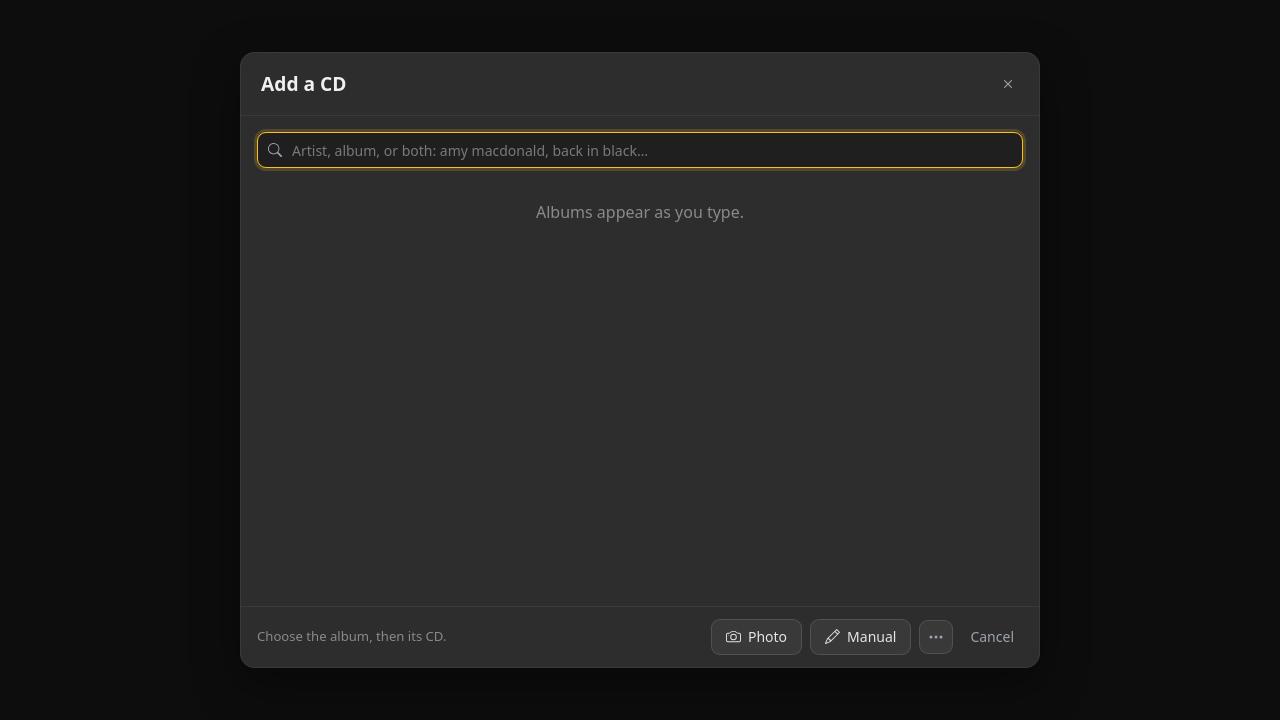
Test: AddMusicDialog — the finder is the way in › still lets the user search MusicBrainz by title, and come back to the finder
The width and height of the screenshot is (1280, 720).
Click the button named "other searches" at (936, 637), box [919,620,953,654]
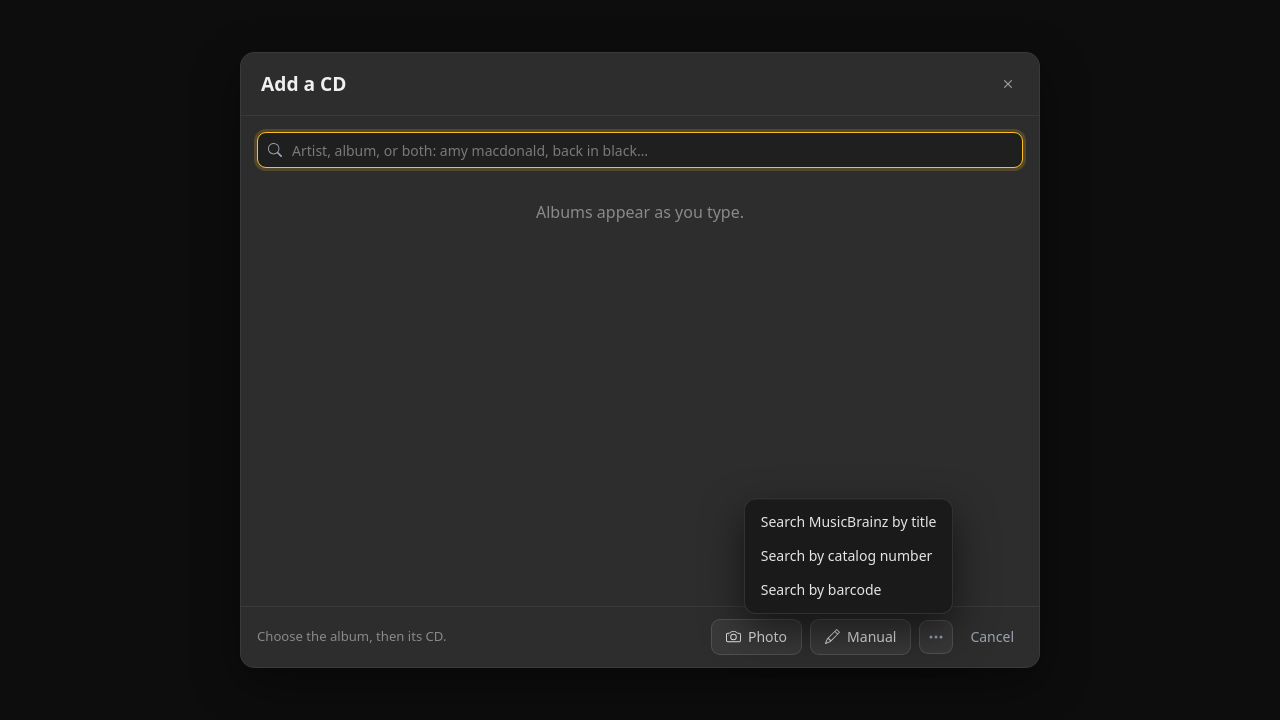
Click the menu item "Search MusicBrainz by title" at (849, 522), box [751,505,946,539]
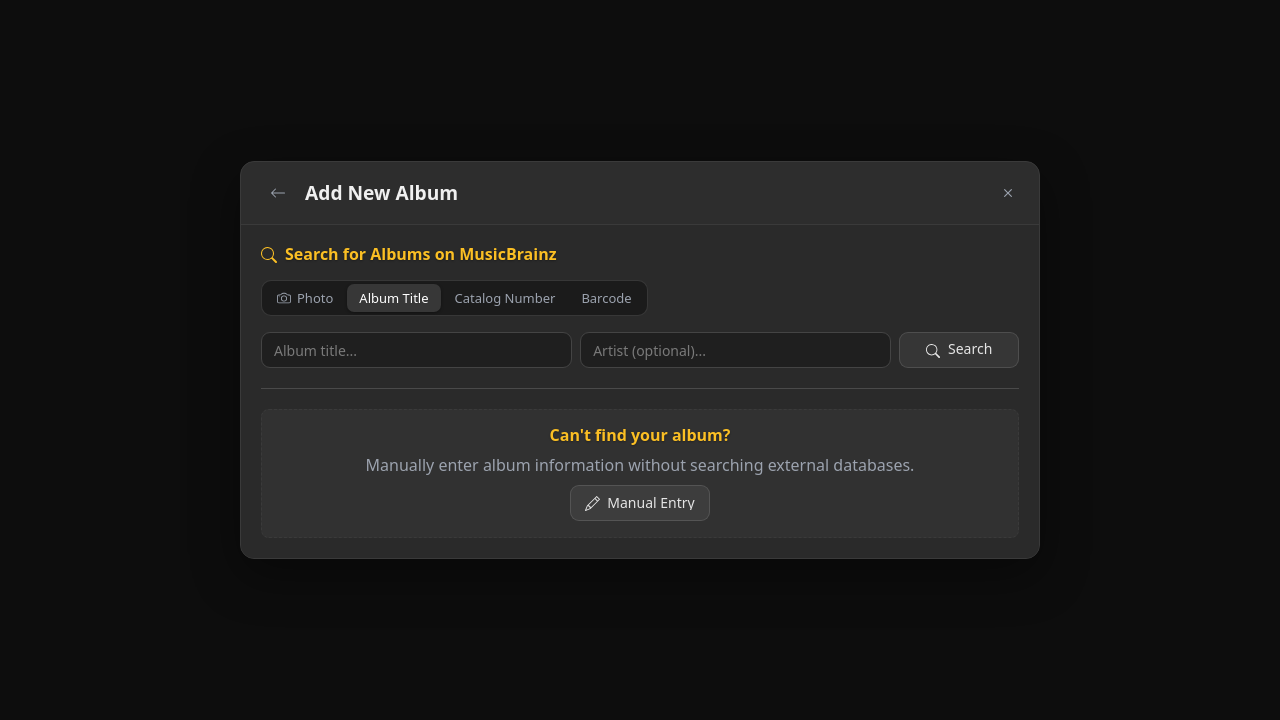
Check: the field with placeholder "Album title..." is shown, box [261,332,572,368]
Click the button named "back" at (278, 193), box [261,176,295,210]
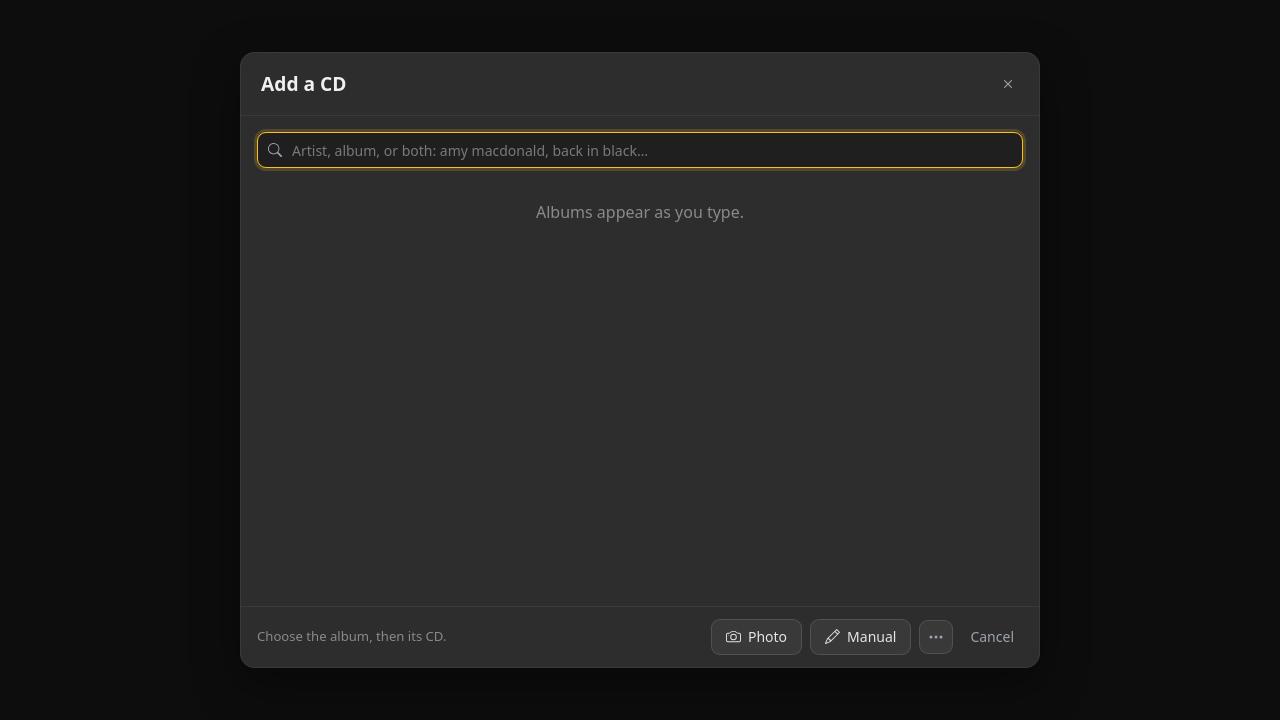
Check: the field named "search for an album" is shown, box [257,132,1023,168]
